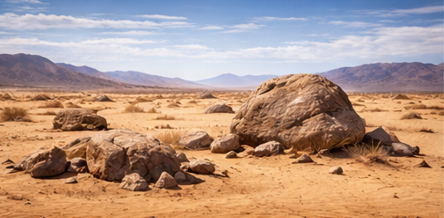rocks: (230, 74, 364, 149), (85, 129, 178, 181), (14, 146, 65, 176), (53, 110, 106, 128), (178, 131, 212, 149), (209, 134, 239, 152), (253, 141, 282, 156), (121, 173, 146, 188), (155, 171, 177, 187), (390, 142, 417, 155), (190, 159, 213, 173), (204, 103, 232, 113), (292, 153, 312, 162), (199, 90, 214, 97), (329, 166, 341, 174), (226, 150, 236, 157)
